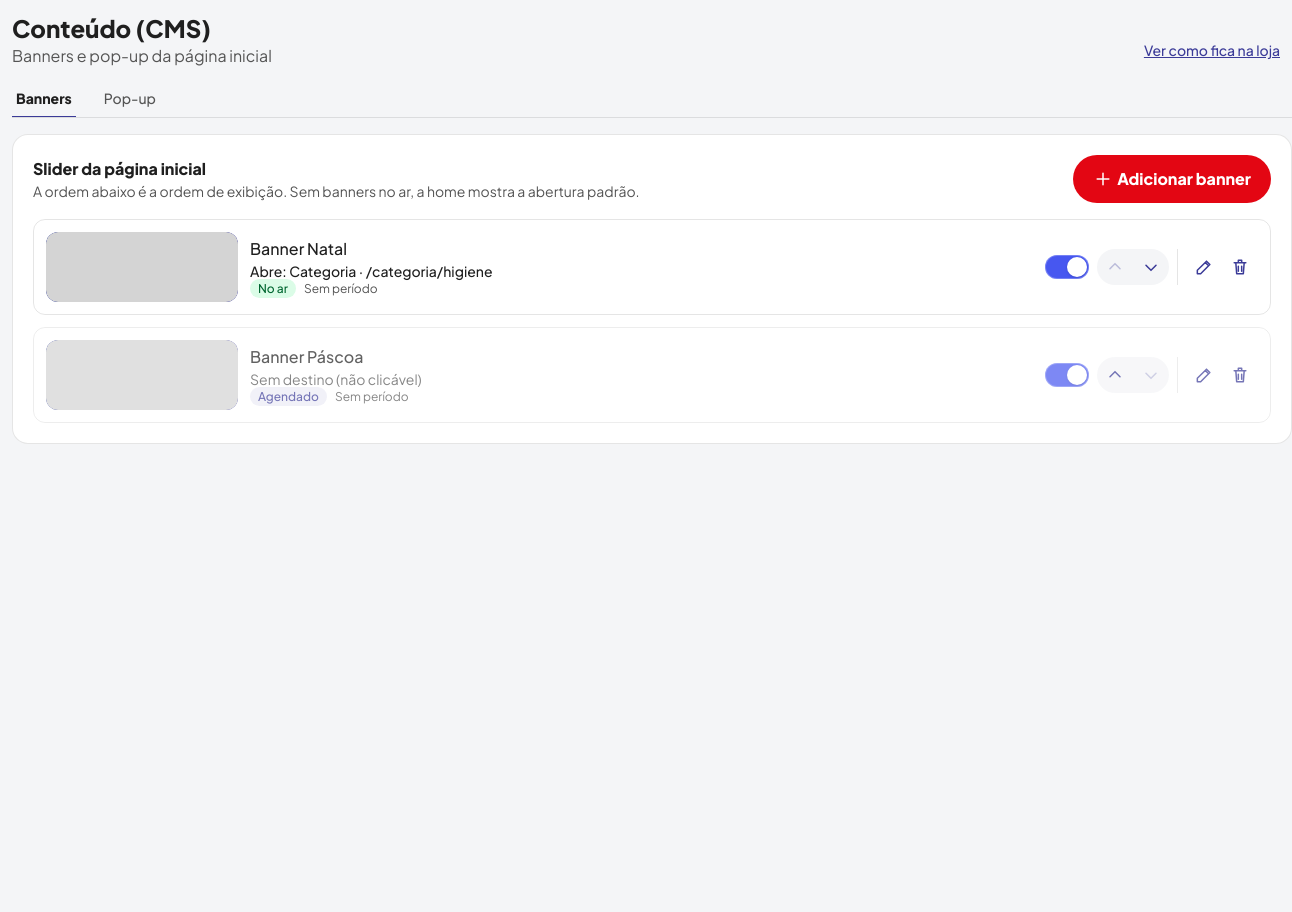
CMS: pop-up › sem pop-up salvo mostra "Nenhum pop-up cadastrado"
The image size is (1292, 912).
Click the tab "Pop-up" at (130, 103), box [100,88,160,118]
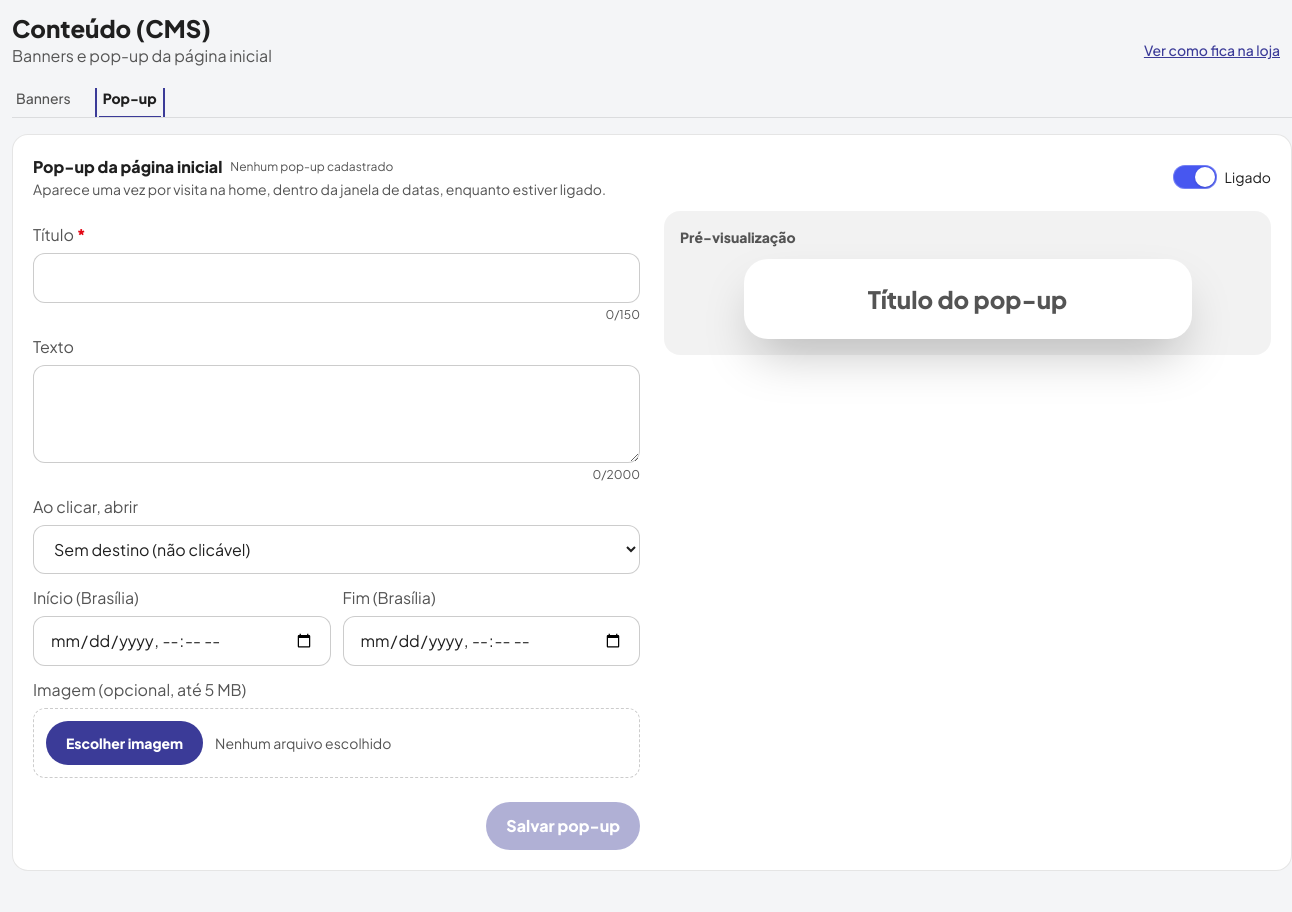
Expected: the heading "Pop-up da página inicial" is shown, [33,155,222,179]
Expected: the text "Nenhum pop-up cadastrado" is shown, [230,159,393,175]
